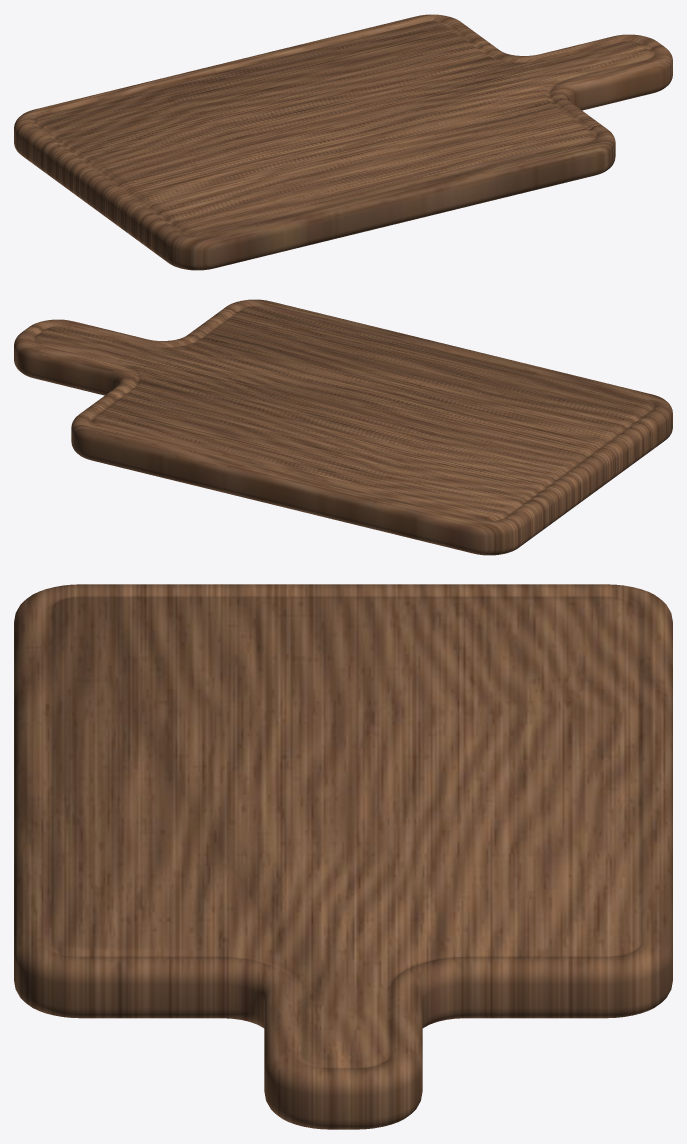
The model's file is tabua.glb.
The picture shows the model from 3 angles, top to bottom: view 1: azimuth 30°, elevation 25°; view 2: azimuth 150°, elevation 25°; view 3: azimuth 270°, elevation 25°; orthographic projection. The views are drawn at different scales.
Visible parts, largest first — view 1: tabua_madeira; view 2: tabua_madeira; view 3: tabua_madeira.
Boxes of the visible parts, x1,y1,x2,y2 form: tabua_madeira: (14,14,672,270); tabua_madeira: (14,299,672,555); tabua_madeira: (14,584,672,1129).
Bounding box in the file's own units: 0.54 × 0.028 × 0.3.
Materials: 1 (1 with a texture image).
